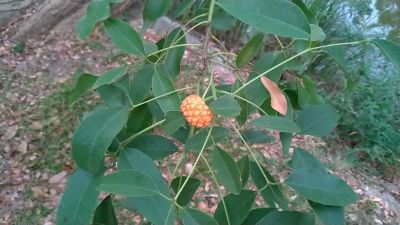eggs: (180, 92, 212, 132)
